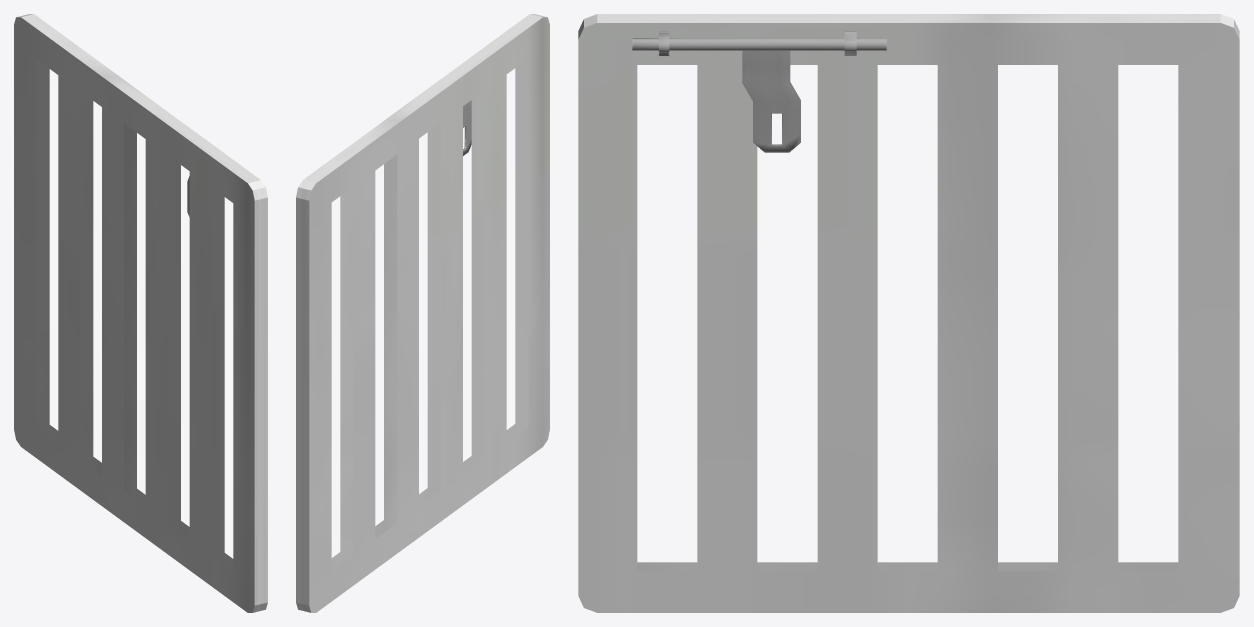
Rendered from gate.fbx.
3 renders of one model, left to right at view 1: azimuth 30°, elevation 25°; view 2: azimuth 150°, elevation 25°; view 3: azimuth 270°, elevation 25°, orthographic. The views are drawn at different scales.
Parts seen in each view (by area): view 1: Cube; view 2: Cube, Cylinder; view 3: Cube, Cylinder.
Boxes of the visible parts, <box> form: Cube: <box>14,14,267,612</box>; Cube: <box>296,14,549,612</box>; Cylinder: <box>463,100,471,155</box>; Cube: <box>578,14,1239,612</box>; Cylinder: <box>632,38,886,152</box>.
Bounding box in the file's own units: 165 × 3215 × 3264.
4 materials, 4 textured.
